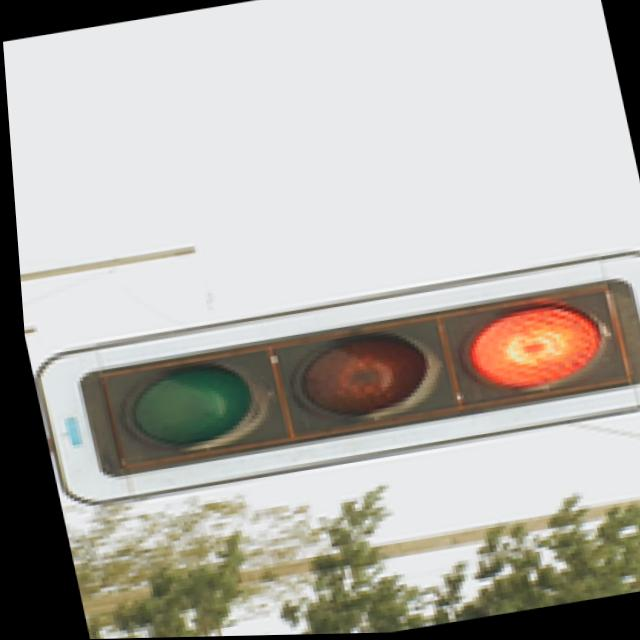red_light: (16, 179, 640, 566)
